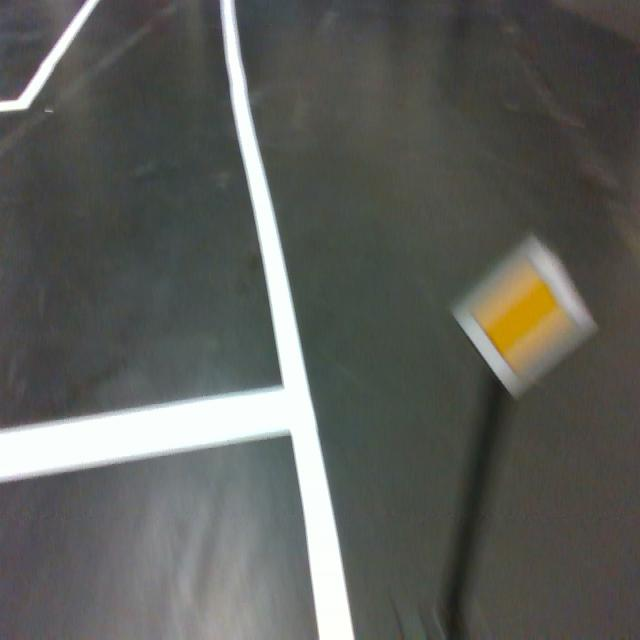priority-sign: (449, 232, 599, 404)
